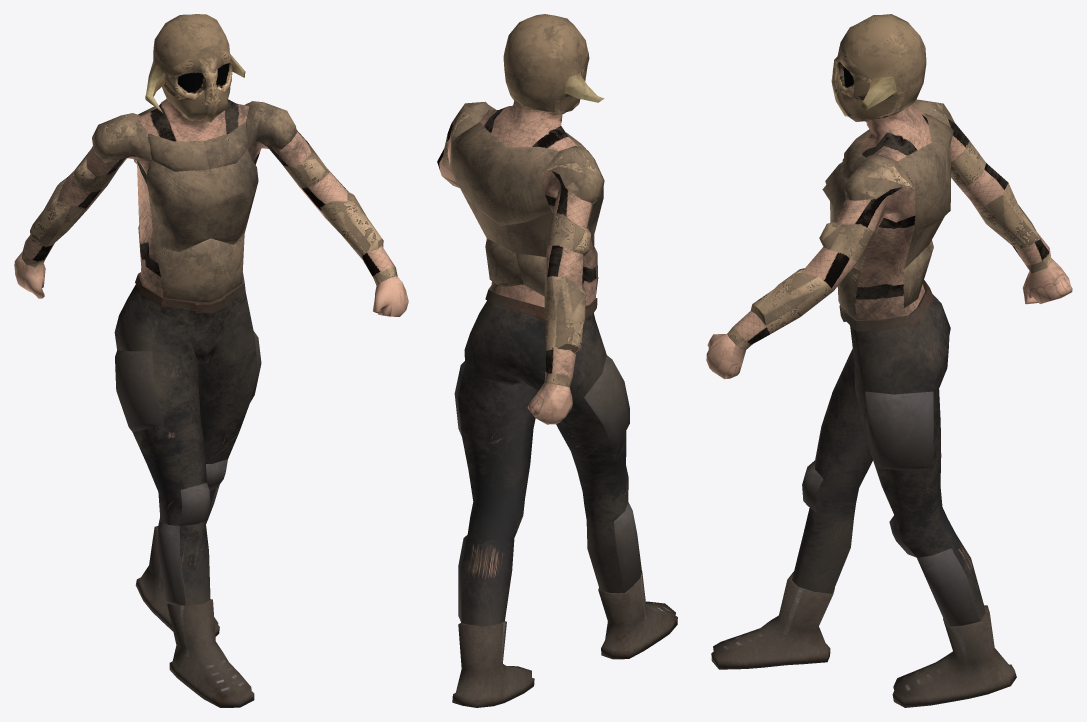
File: Anim_andar_npc1.0024.obj
The picture shows the model from 3 angles, left to right: view 1: azimuth 30°, elevation 25°; view 2: azimuth 150°, elevation 25°; view 3: azimuth 270°, elevation 25°; orthographic projection. The views are drawn at different scales.
Visible parts, largest first — view 1: Anim_andar_npc1; view 2: Anim_andar_npc1; view 3: Anim_andar_npc1.
Part boxes in pixels (bbox=[...]): Anim_andar_npc1: bbox=[14, 14, 408, 707]; Anim_andar_npc1: bbox=[437, 14, 677, 707]; Anim_andar_npc1: bbox=[706, 14, 1072, 707].
Bounding box in the file's own units: 3.8 × 9.64 × 4.76.
